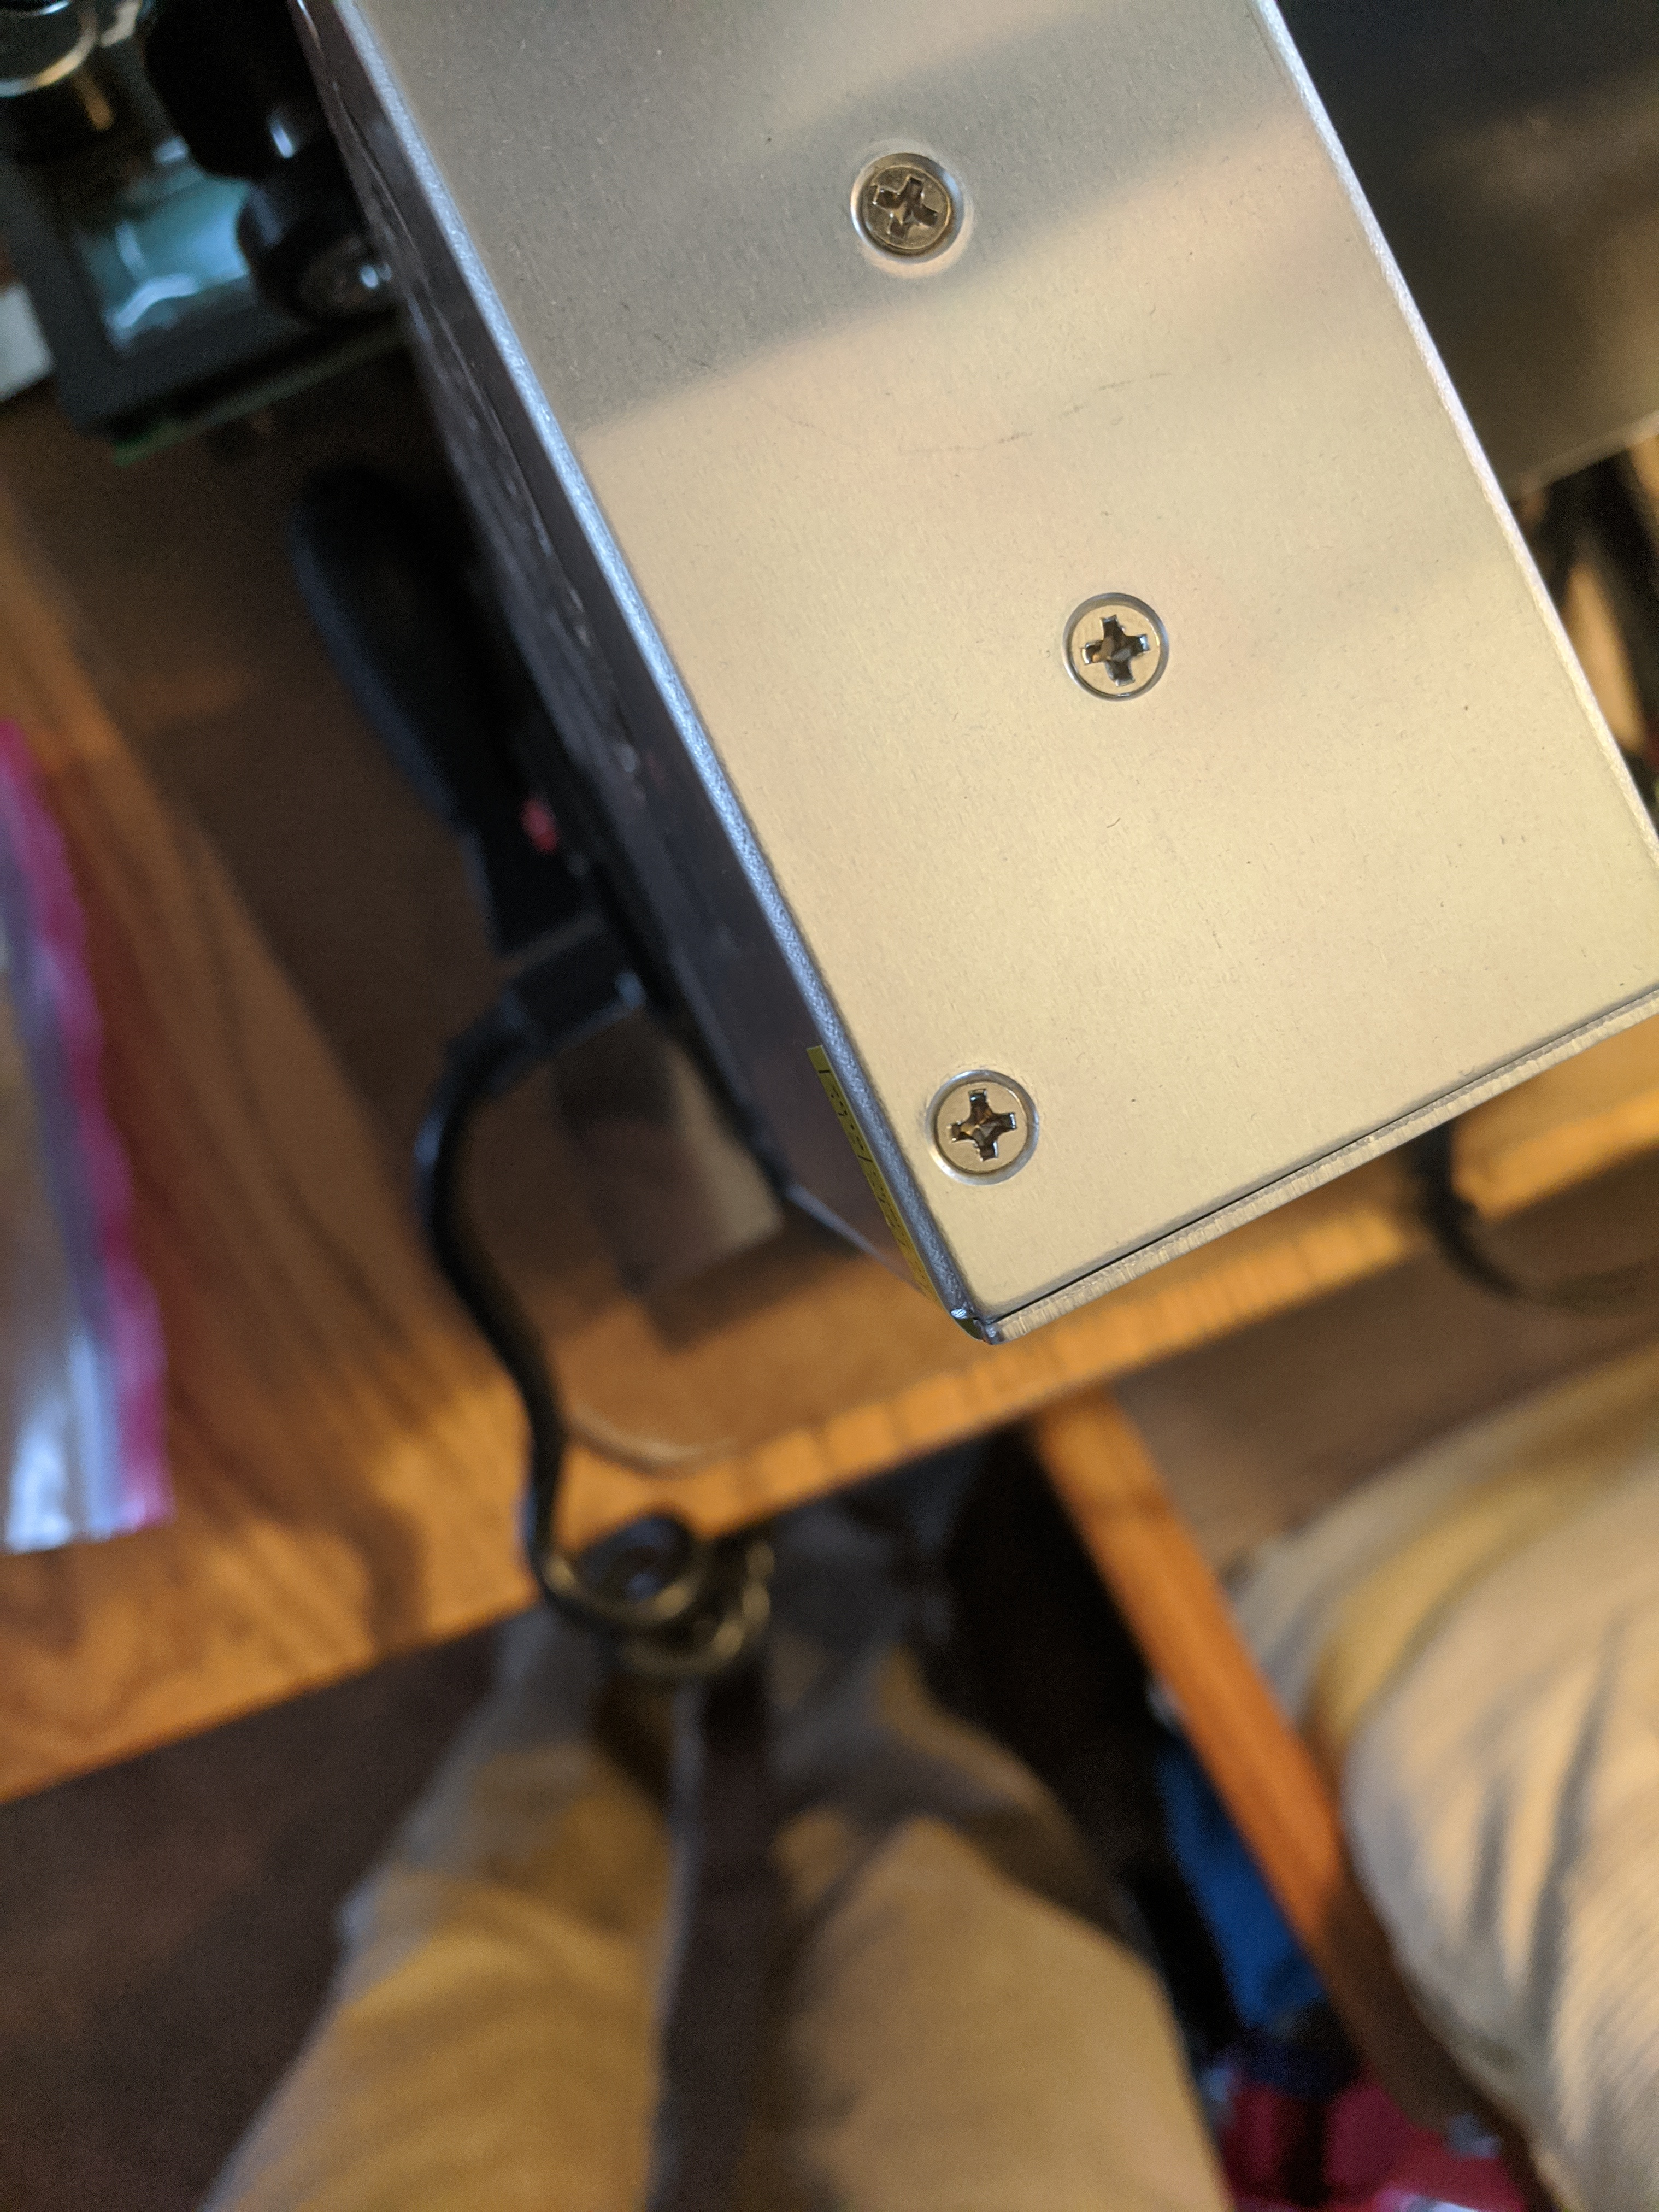cross_recessed_screw: (847, 141, 967, 261), (929, 1062, 1042, 1186), (1065, 590, 1176, 700)
